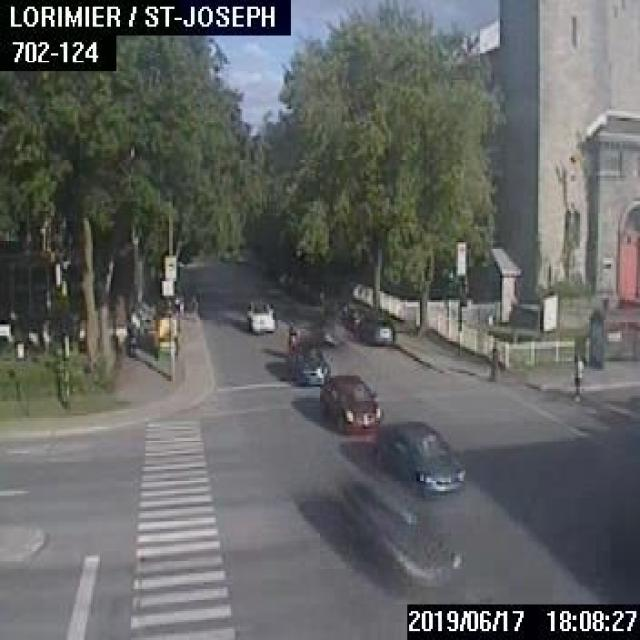pedestrian: (572, 351, 582, 396)
vehicle: (338, 481, 460, 591), (374, 419, 464, 493), (318, 372, 379, 432), (284, 340, 326, 385), (357, 318, 393, 343), (334, 302, 362, 334), (245, 300, 274, 330)
